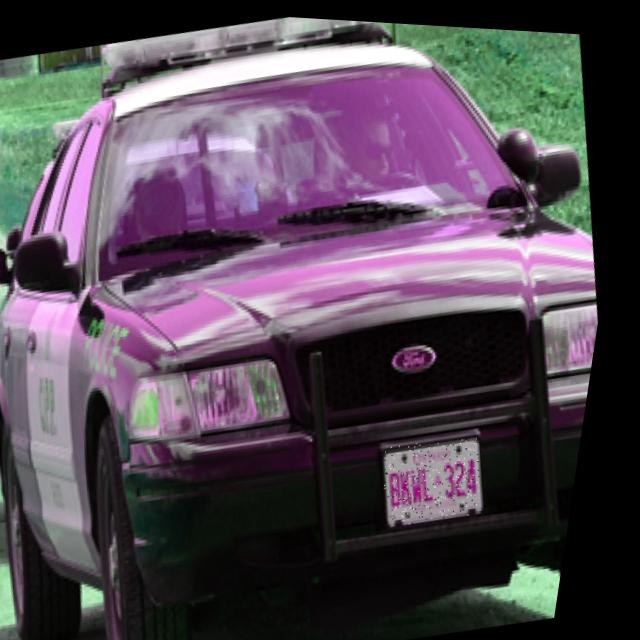license_plate: (385, 423, 506, 526)
